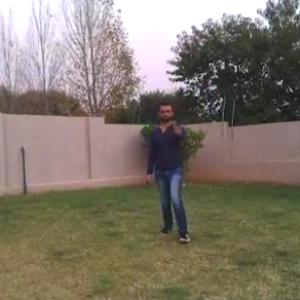takeoff-hand: (171, 113, 190, 140)
